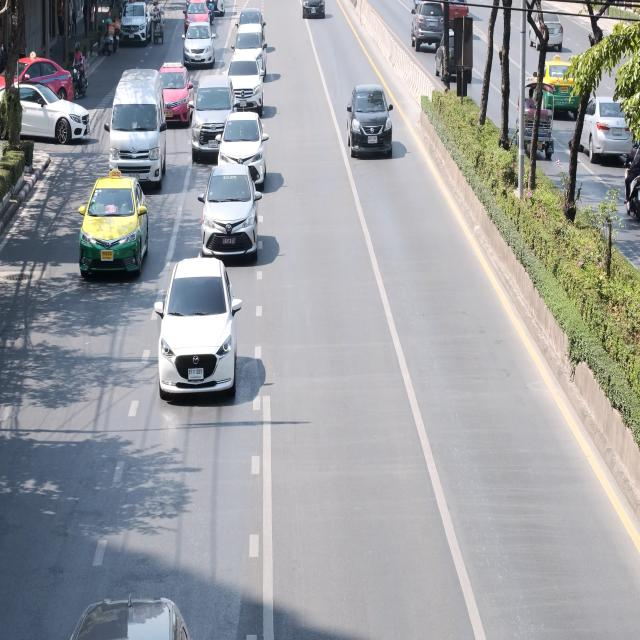cars: (153, 249, 240, 428), (69, 168, 153, 301), (110, 65, 169, 204), (559, 78, 640, 174), (195, 165, 262, 275), (0, 77, 92, 156), (342, 76, 401, 175), (0, 46, 68, 122), (216, 110, 266, 194), (191, 72, 236, 163), (422, 33, 482, 92), (153, 58, 194, 136), (536, 54, 588, 114), (399, 0, 450, 50), (177, 19, 218, 79), (522, 14, 567, 49), (116, 0, 150, 42), (175, 0, 211, 39), (147, 0, 166, 58), (437, 0, 475, 29), (294, 0, 333, 27)
motorcycle: (617, 136, 640, 227), (70, 34, 92, 108), (100, 26, 115, 56), (112, 14, 122, 48)
tricycle: (510, 74, 556, 169)
